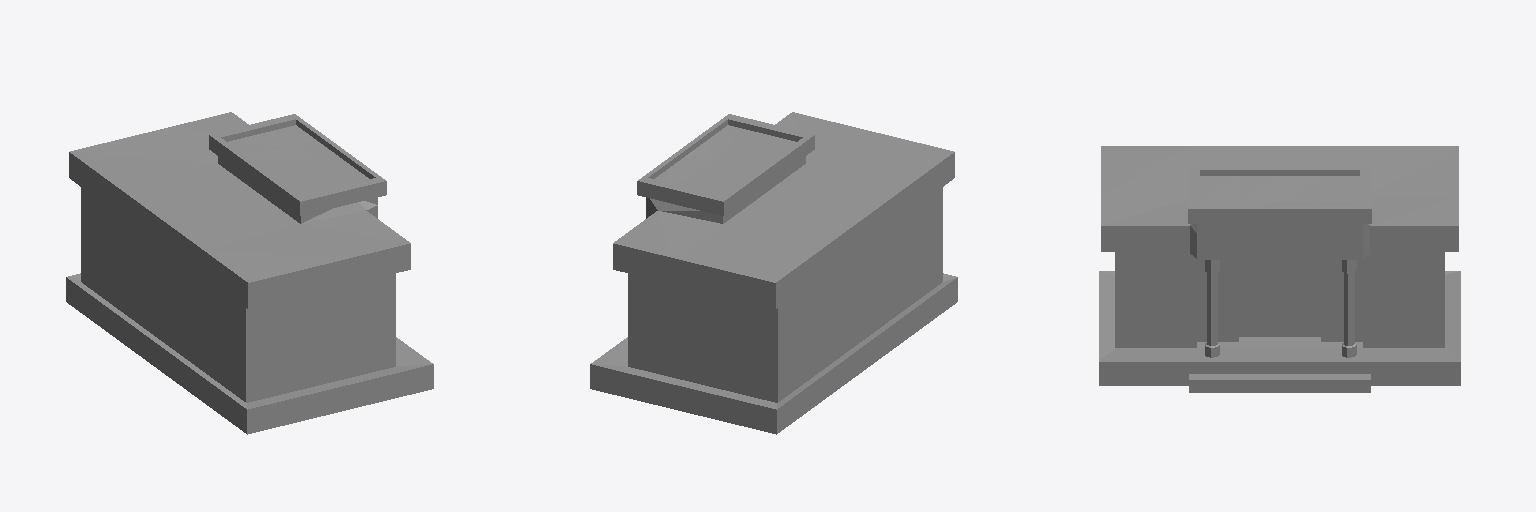
File: BigBuilding.obj
3 views of the same model, side by side, from view 1: azimuth 30°, elevation 25°; view 2: azimuth 150°, elevation 25°; view 3: azimuth 270°, elevation 25° (orthographic).
Parts seen in each view (by area): view 1: Cube_Cube.001; view 2: Cube_Cube.001; view 3: Cube_Cube.001.
Boxes of the visible parts, box(x1,y1,x2,y2) form: Cube_Cube.001: box(66, 112, 433, 434); Cube_Cube.001: box(590, 112, 957, 434); Cube_Cube.001: box(1099, 146, 1460, 392).
Size of the model in its own units: 2.65 by 2.24 by 4.19.